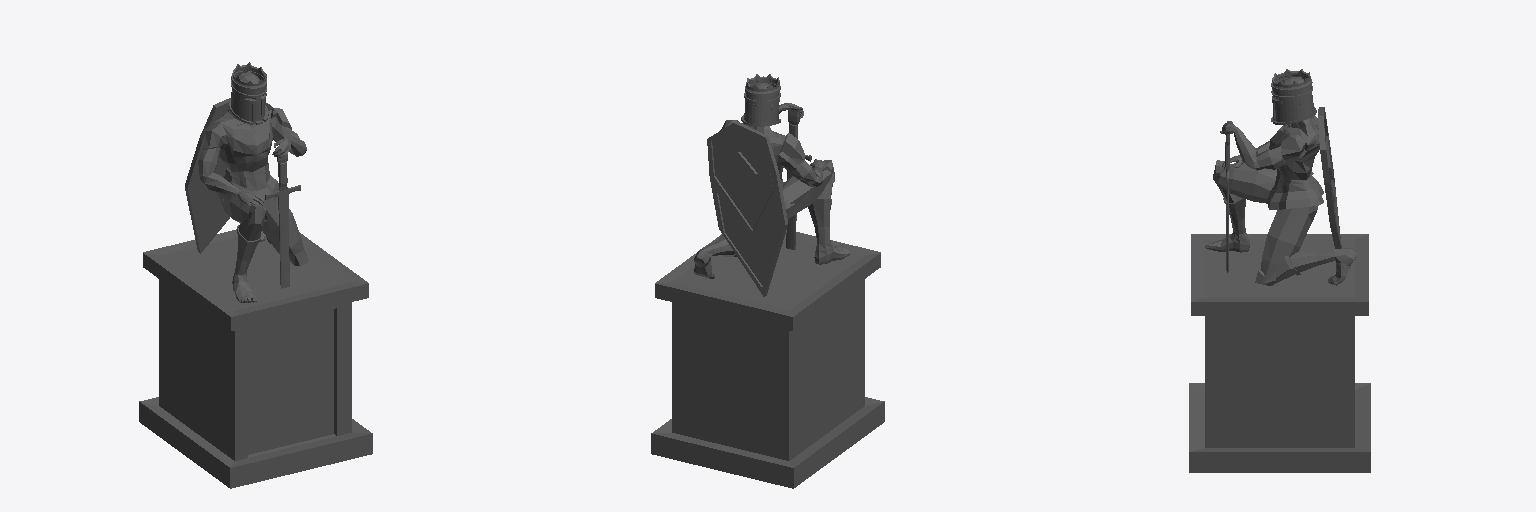
The model's file is knight_statue.obj.
The picture shows the model from 3 angles: view 1: azimuth 30°, elevation 25°; view 2: azimuth 150°, elevation 25°; view 3: azimuth 270°, elevation 25°; orthographic projection.
Parts seen in each view (by area): view 1: Cube, Human.001_body.000, shield.001_Plane.005, Circle.005_Circle.000, sword_Cube.002; view 2: Cube, shield.001_Plane.005, Human.001_body.000, Circle.005_Circle.000, sword_Cube.002; view 3: Cube, Human.001_body.000, Circle.005_Circle.000, shield.001_Plane.005.
Boxes of the visible parts, box(x1,y1,x2,y2) form: Cube: box(139, 229, 372, 488); Human.001_body.000: box(198, 72, 308, 302); shield.001_Plane.005: box(185, 98, 272, 253); Circle.005_Circle.000: box(229, 62, 268, 124); sword_Cube.002: box(265, 150, 300, 288); Cube: box(651, 230, 884, 488); shield.001_Plane.005: box(707, 121, 787, 296); Human.001_body.000: box(694, 83, 849, 278); Circle.005_Circle.000: box(741, 74, 780, 126); sword_Cube.002: box(786, 110, 811, 249); Cube: box(1189, 234, 1370, 472); Human.001_body.000: box(1205, 77, 1356, 285); Circle.005_Circle.000: box(1271, 69, 1316, 124); shield.001_Plane.005: box(1318, 107, 1341, 248).
Size of the model in its own units: 0.936 by 2.29 by 1.04.